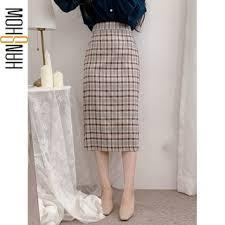skirt: (82, 22, 142, 155)
